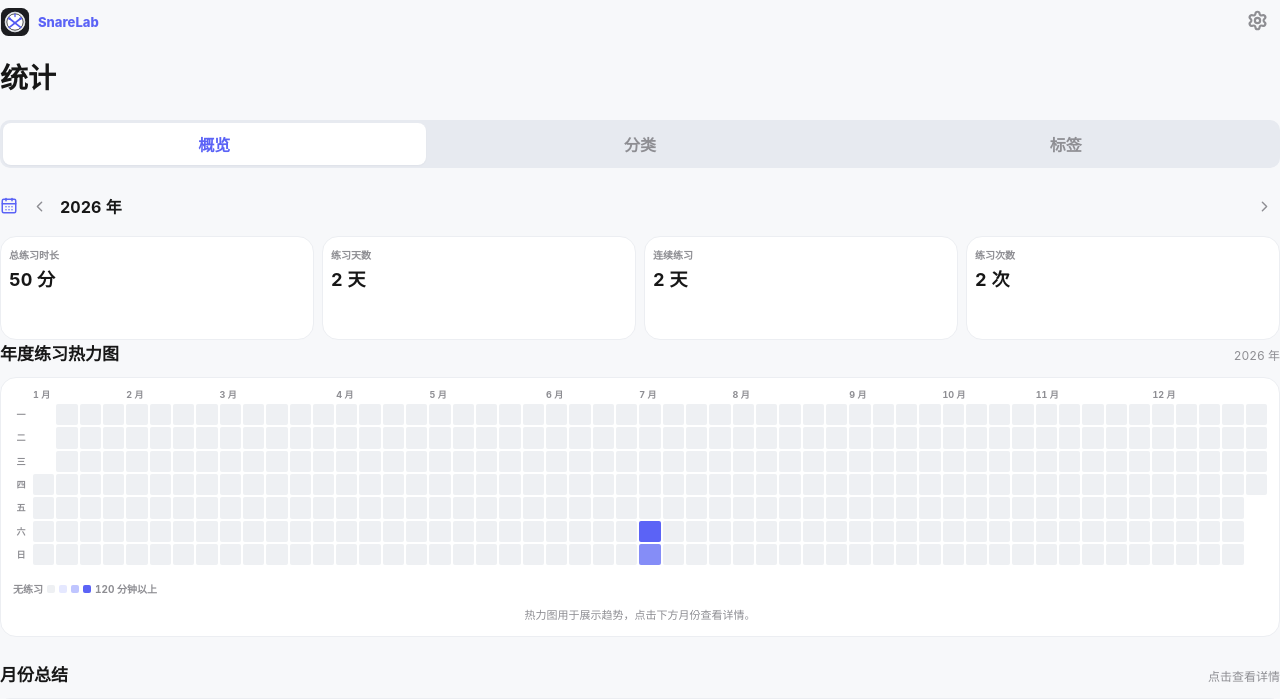
Test case: StatisticsPage › switches to category and tag duration analysis
Click the button "分类". click: point(640, 144)
box: [429, 123, 851, 165]
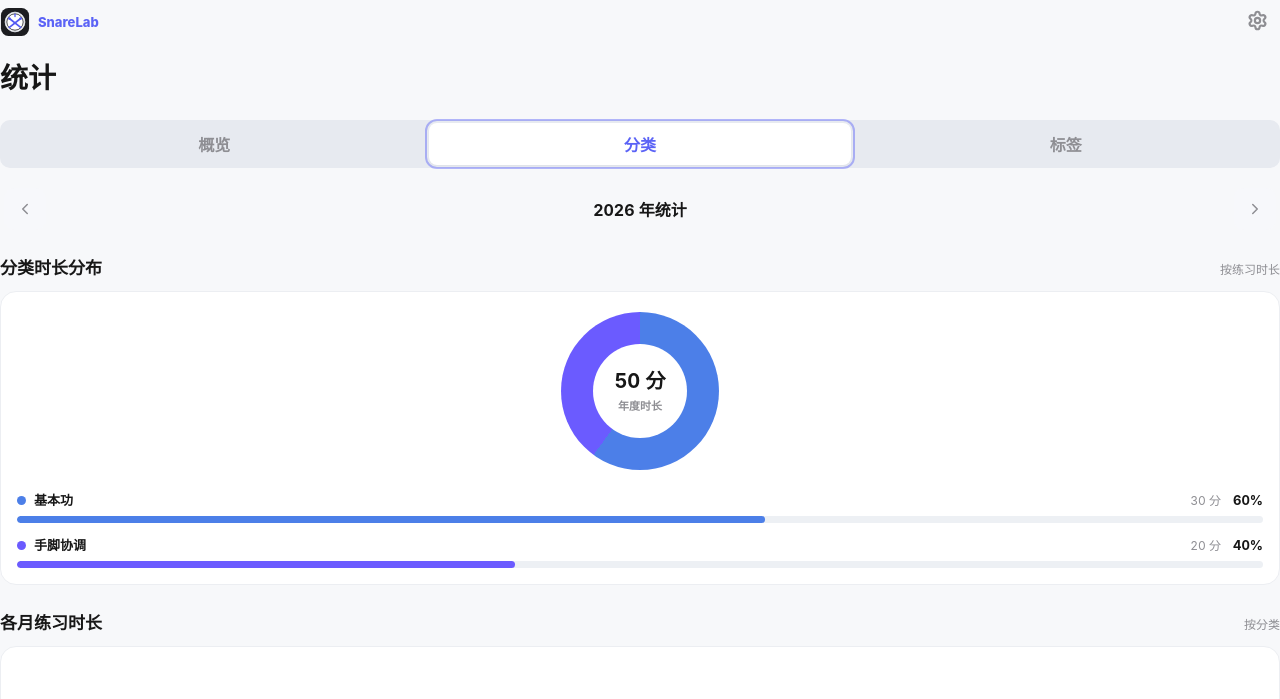
Now the heading "分类时长分布" is shown, box [0, 254, 102, 279]
Now the heading "各月练习时长" is shown, box [0, 609, 102, 634]
Click the button "标签". click: point(1066, 144)
box: [854, 123, 1277, 165]
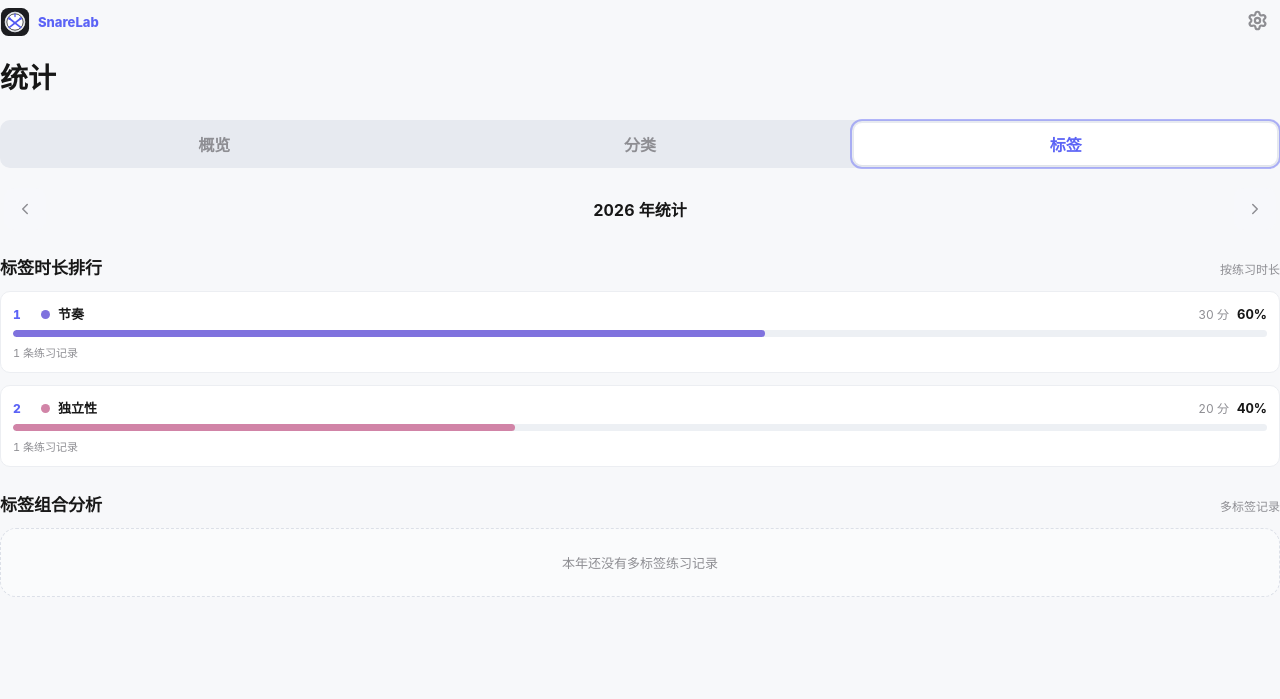
Now the heading "标签时长排行" is shown, box [0, 254, 102, 279]
Now the heading "标签组合分析" is shown, box [0, 491, 102, 516]
